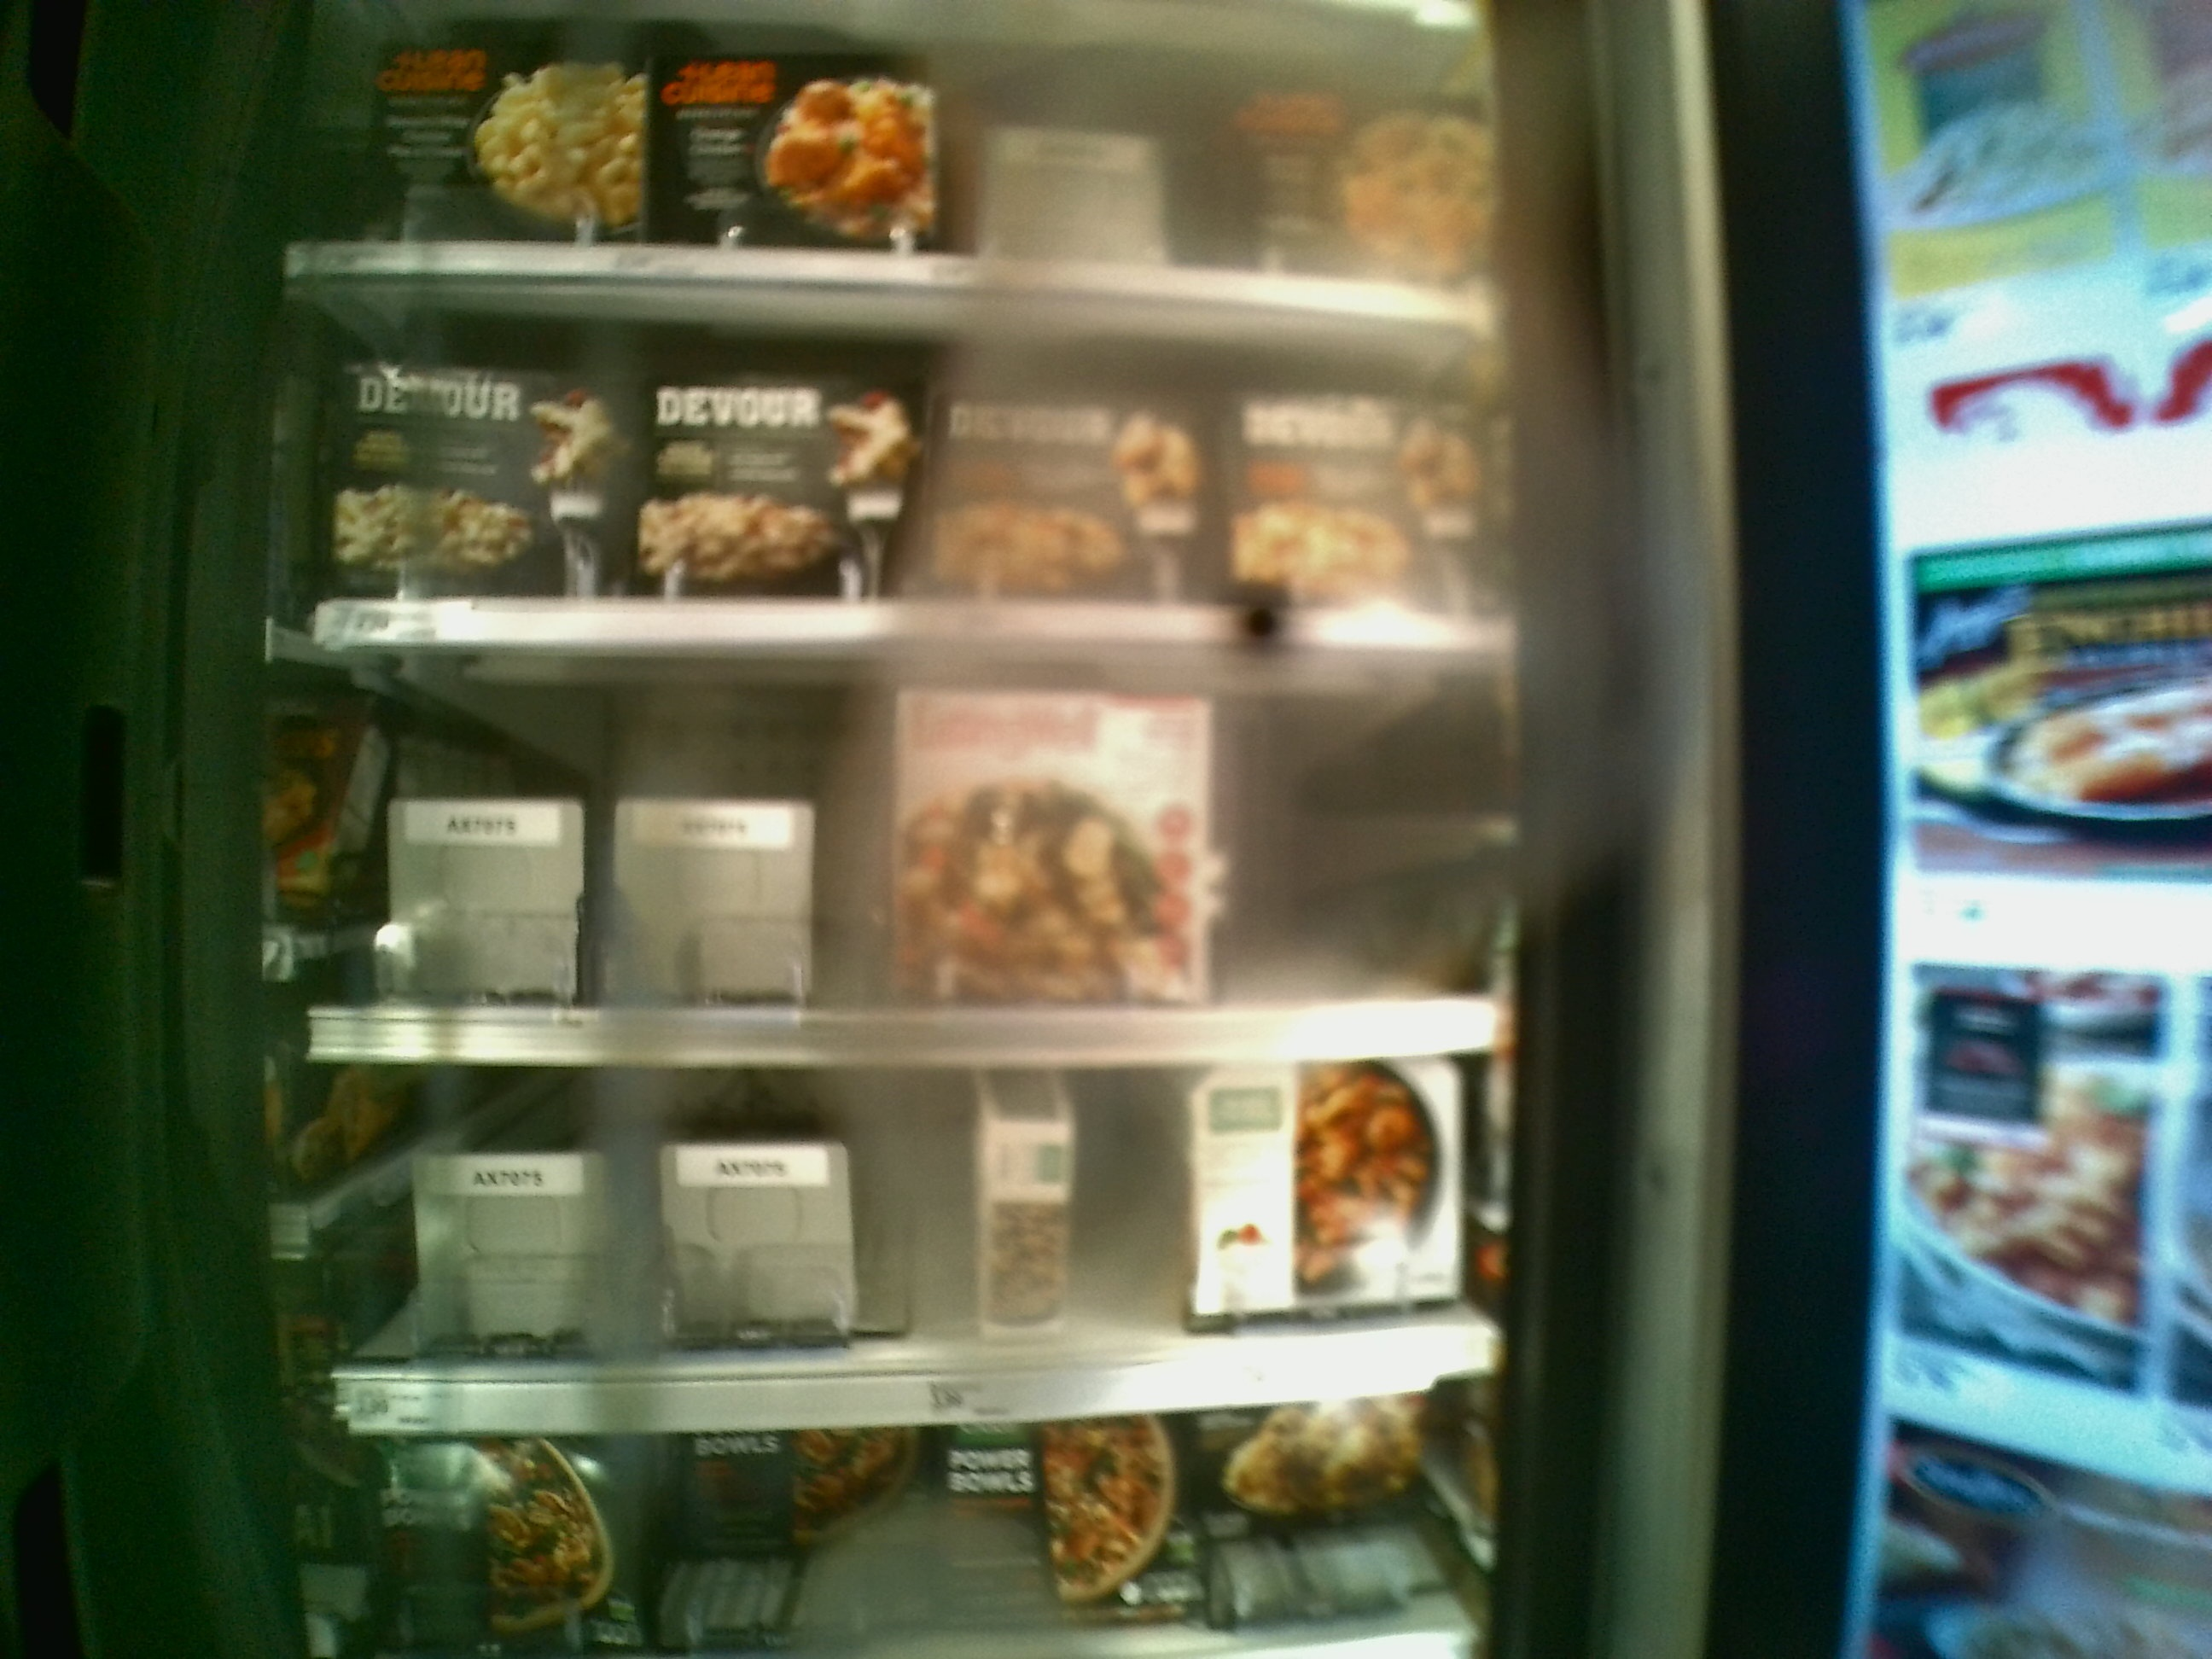shelf: (310, 647, 1508, 1054), (296, 265, 1489, 643), (314, 1060, 1496, 1431)
